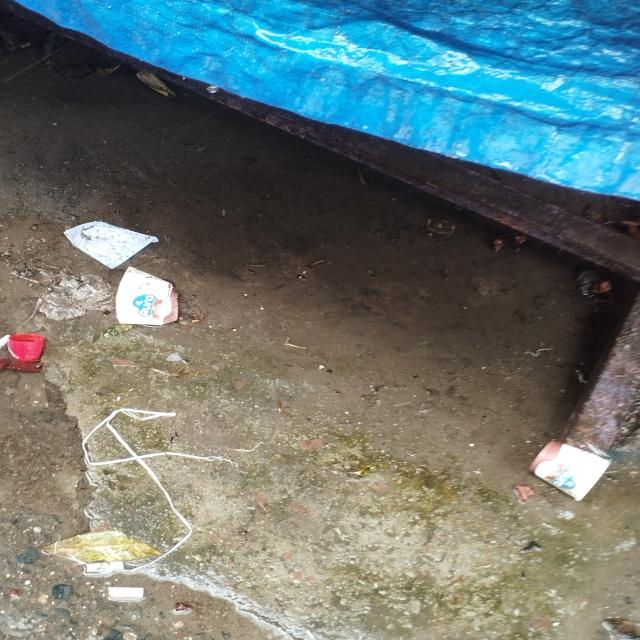paper: (523, 439, 614, 502), (104, 270, 183, 328)
